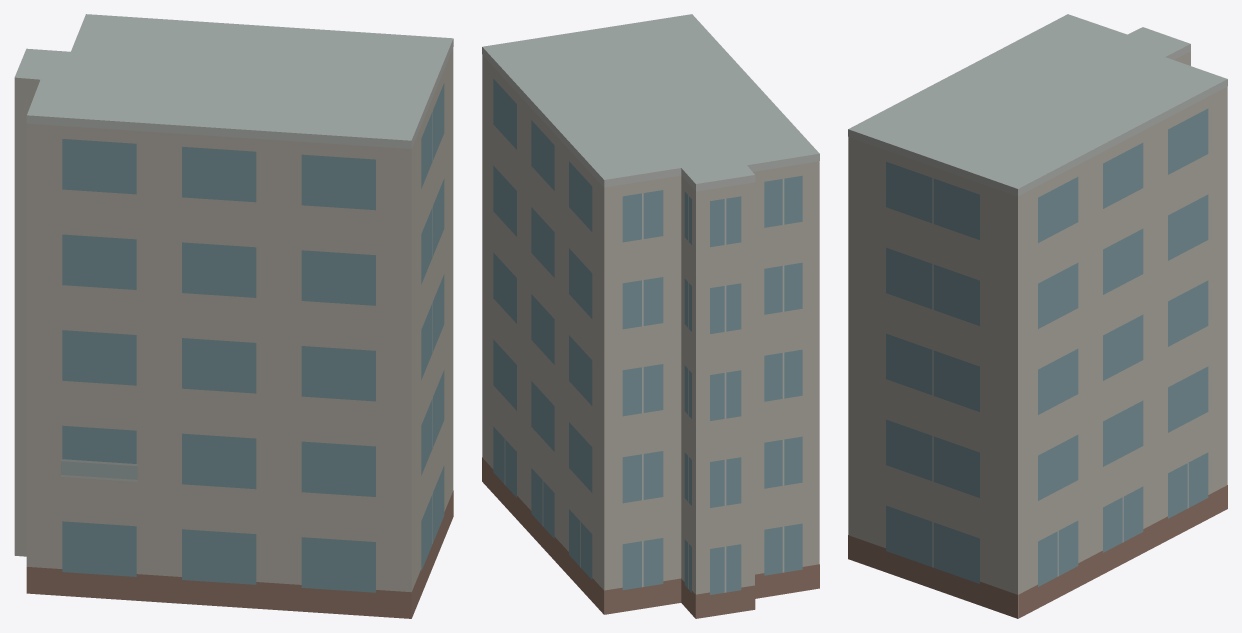
Rendered from survey-upis-32677855.glb.
The picture shows the model from 3 angles, left to right: view 1: azimuth 30°, elevation 25°; view 2: azimuth 150°, elevation 25°; view 3: azimuth 270°, elevation 25°; orthographic projection. The views are drawn at different scales.
Parts seen in each view (by area): view 1: survey-upis-32677855.tmp; view 2: survey-upis-32677855.tmp; view 3: survey-upis-32677855.tmp.
Boxes of the visible parts, bbox=[...] form: survey-upis-32677855.tmp: bbox=[14, 14, 453, 618]; survey-upis-32677855.tmp: bbox=[482, 14, 819, 618]; survey-upis-32677855.tmp: bbox=[848, 14, 1227, 618].
Bounding box in the file's own units: 12.32 × 14.1 × 11.3.
